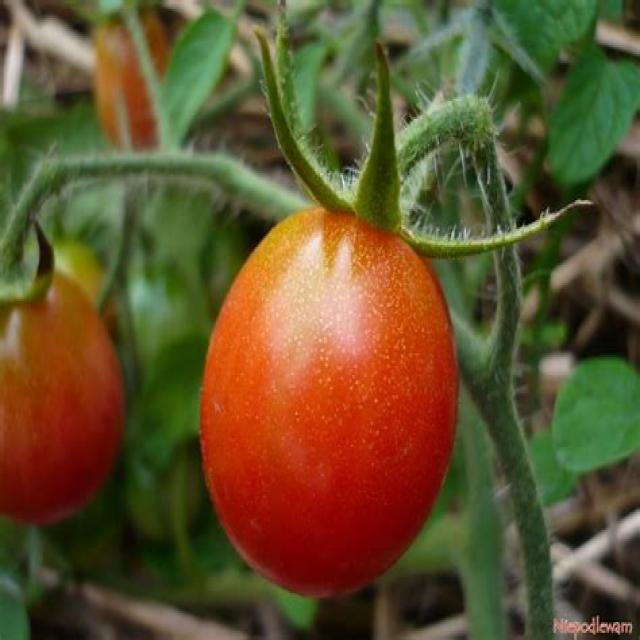Tomato: (197, 207, 459, 601)
